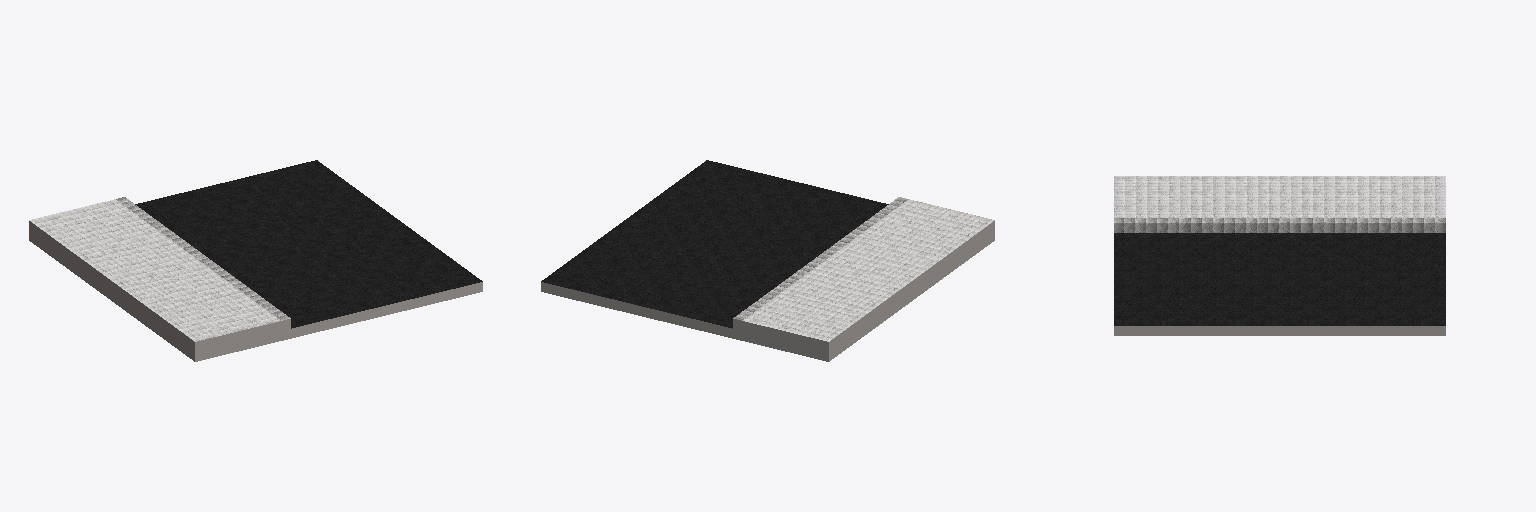
The picture shows the model from 3 angles: view 1: azimuth 30°, elevation 25°; view 2: azimuth 150°, elevation 25°; view 3: azimuth 270°, elevation 25°; orthographic projection.
Visible parts, largest first — view 1: Straight_Cube.001; view 2: Straight_Cube.001; view 3: Straight_Cube.001.
Part boxes in pixels (left/top/right/bottom): Straight_Cube.001: left=29, top=160, right=482, bottom=361; Straight_Cube.001: left=541, top=160, right=994, bottom=361; Straight_Cube.001: left=1114, top=176, right=1445, bottom=335.
Size of the model in its own units: 3 by 0.2 by 3.
1 materials, 1 textured.